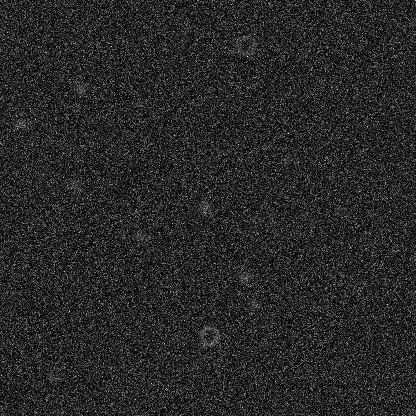Ring: (233, 32, 257, 56), (197, 323, 221, 347)
Spot: (66, 177, 82, 193), (131, 228, 147, 244), (72, 80, 88, 96), (246, 296, 262, 312), (209, 355, 225, 371), (12, 115, 28, 131), (174, 192, 190, 208), (280, 151, 296, 167), (334, 204, 350, 220), (237, 269, 253, 285), (296, 206, 312, 222), (196, 198, 212, 214), (44, 370, 60, 386)
